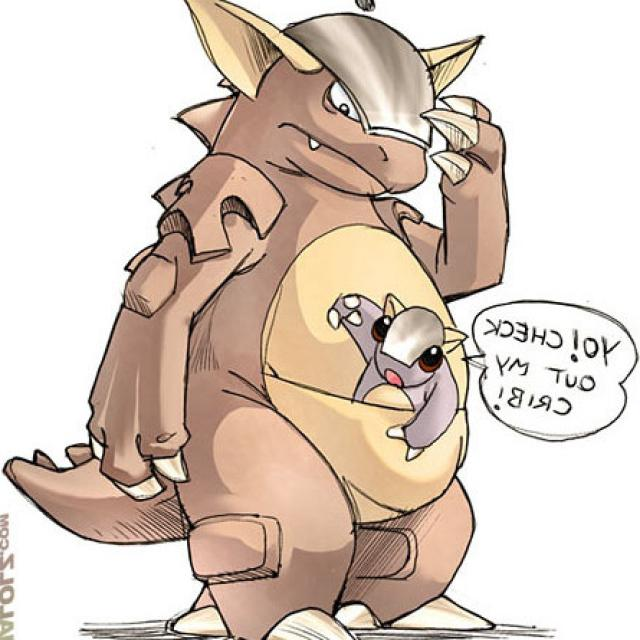Kangaskhan: (22, 0, 528, 640)
